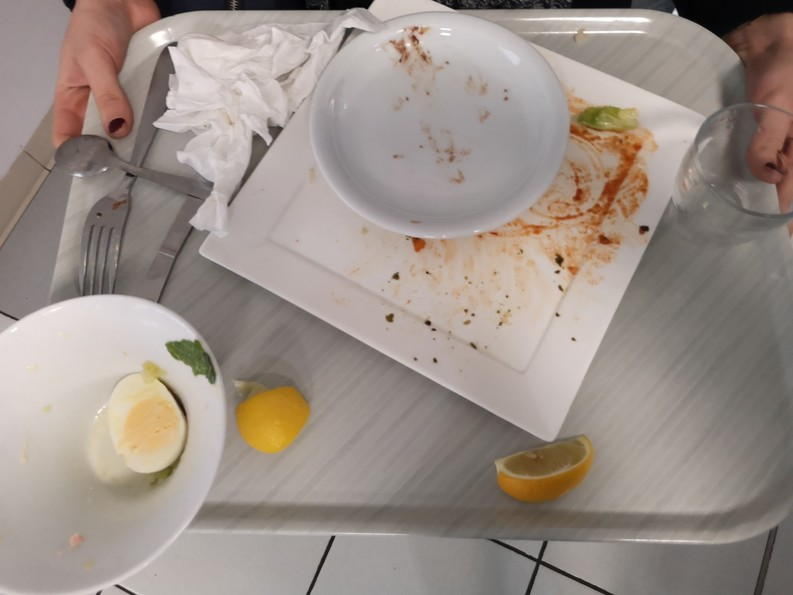cup: (670, 98, 793, 241)
cutlery: (73, 35, 190, 302), (48, 129, 229, 222)
orga: (100, 374, 197, 478), (479, 430, 606, 509), (233, 371, 317, 454), (581, 95, 645, 153)
trash: (161, 26, 330, 192)
